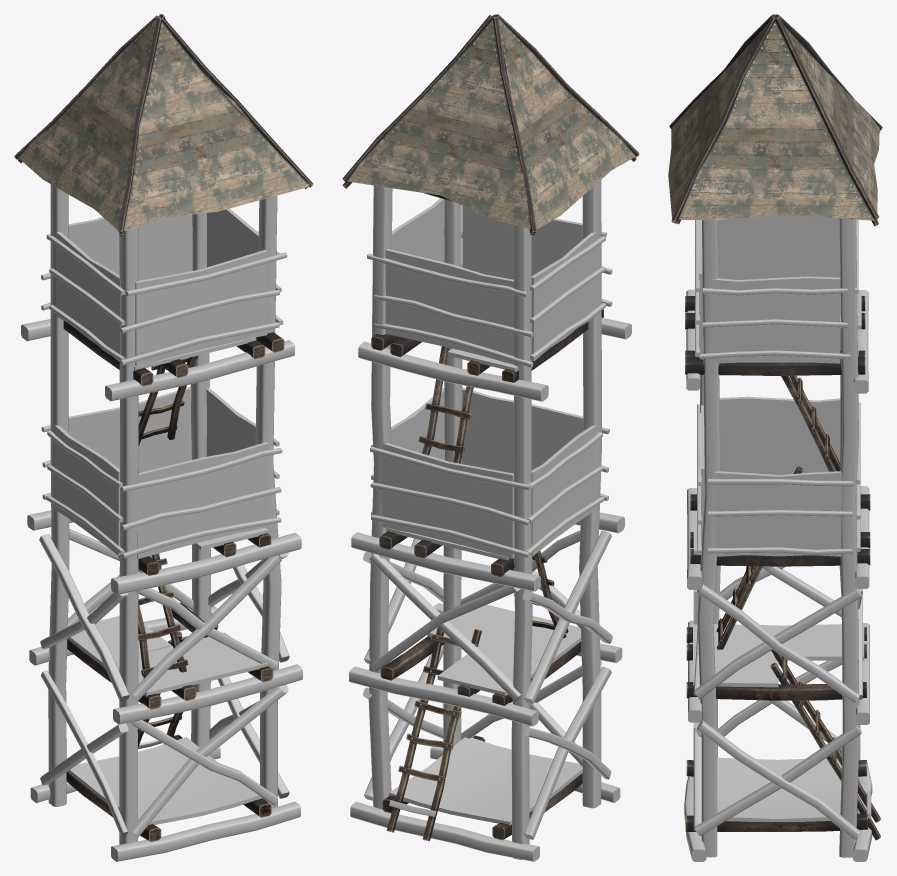
Rendered from SM_WatchC.fbx.
The picture shows the model from 3 angles, left to right: view 1: azimuth 30°, elevation 25°; view 2: azimuth 150°, elevation 25°; view 3: azimuth 270°, elevation 25°; orthographic projection.
Parts seen in each view (by area): view 1: SM_WatchC_LOD0; view 2: SM_WatchC_LOD0; view 3: SM_WatchC_LOD0.
Boxes of the visible parts, box(x1,y1,x2,y2) form: SM_WatchC_LOD0: box(14, 14, 313, 861); SM_WatchC_LOD0: box(342, 14, 639, 861); SM_WatchC_LOD0: box(668, 14, 882, 861).
Bounding box in the file's own units: 280 × 264 × 1090.
